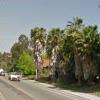Palm tree: (26, 21, 84, 64)
